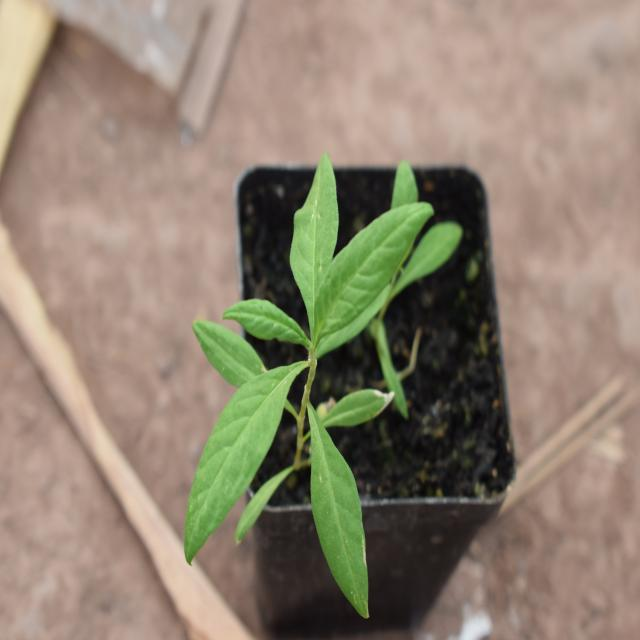white_smart_weed: (173, 166, 436, 591)
